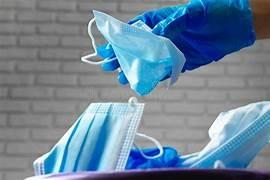Glove: (130, 0, 255, 71), (153, 0, 255, 70), (125, 147, 181, 169), (128, 5, 179, 28)
Mask: (34, 99, 162, 174), (126, 101, 269, 168), (82, 11, 185, 94), (182, 101, 269, 167)
